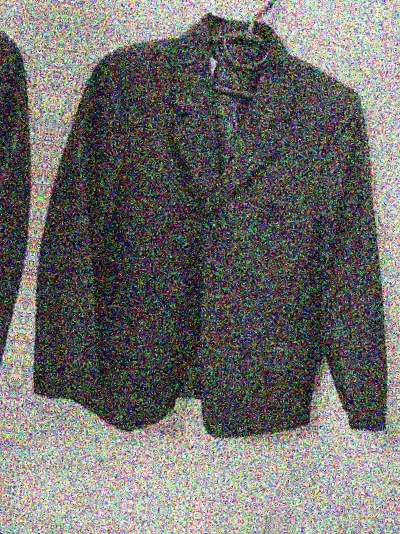Blazer: (18, 0, 400, 487), (0, 0, 57, 435)
